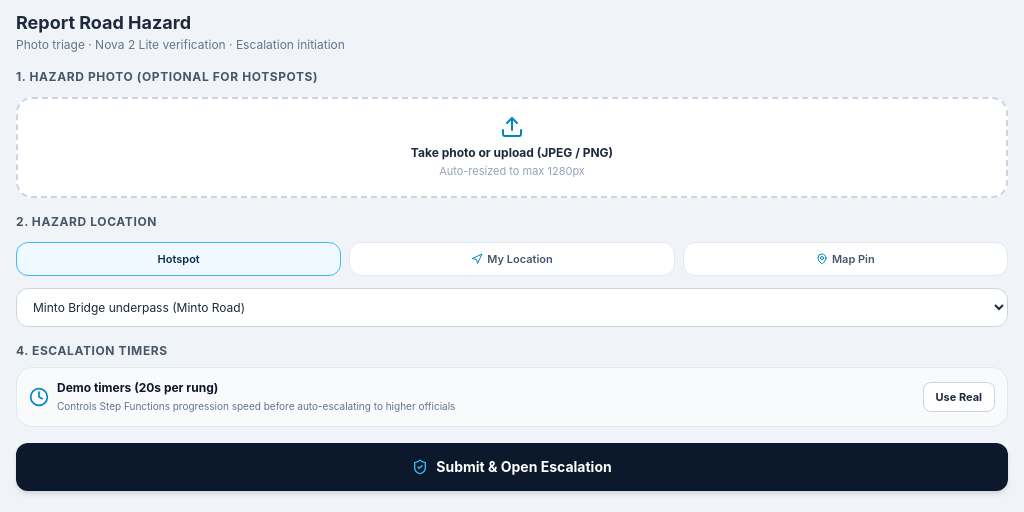
Scenario: ReportScreen › switches escalation timer profiles
The width and height of the screenshot is (1024, 512).
Expected: the text "Demo timers (20s per rung)" is shown, [57, 380, 218, 395]
Click the button "Use Real" at x=959, y=397, box [922, 382, 995, 412]
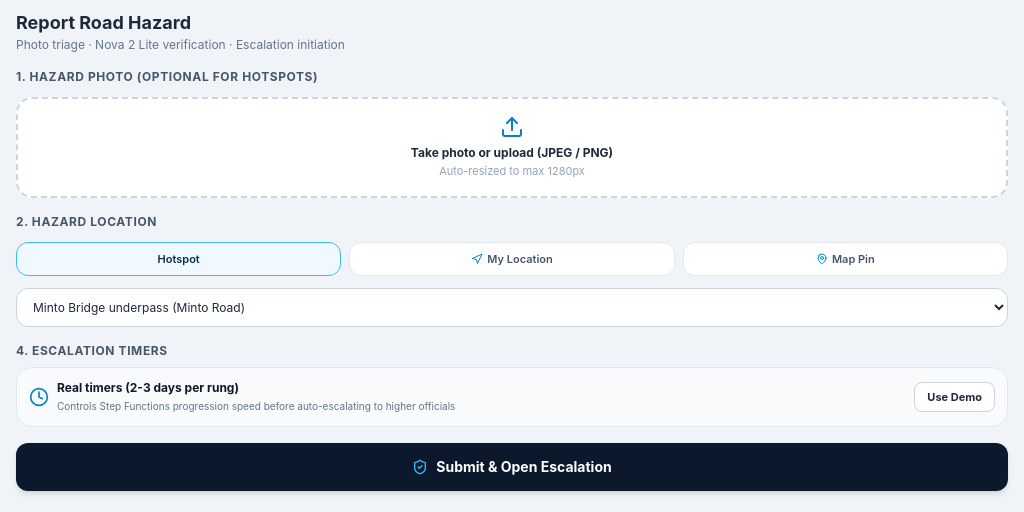
Expected: the text "Real timers (2-3 days per rung)" is shown, [57, 380, 239, 395]
